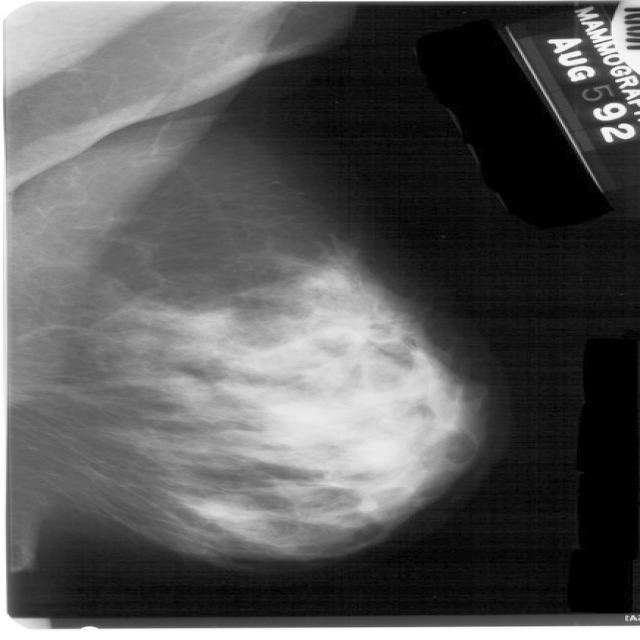tumour: (309, 310, 400, 347)
